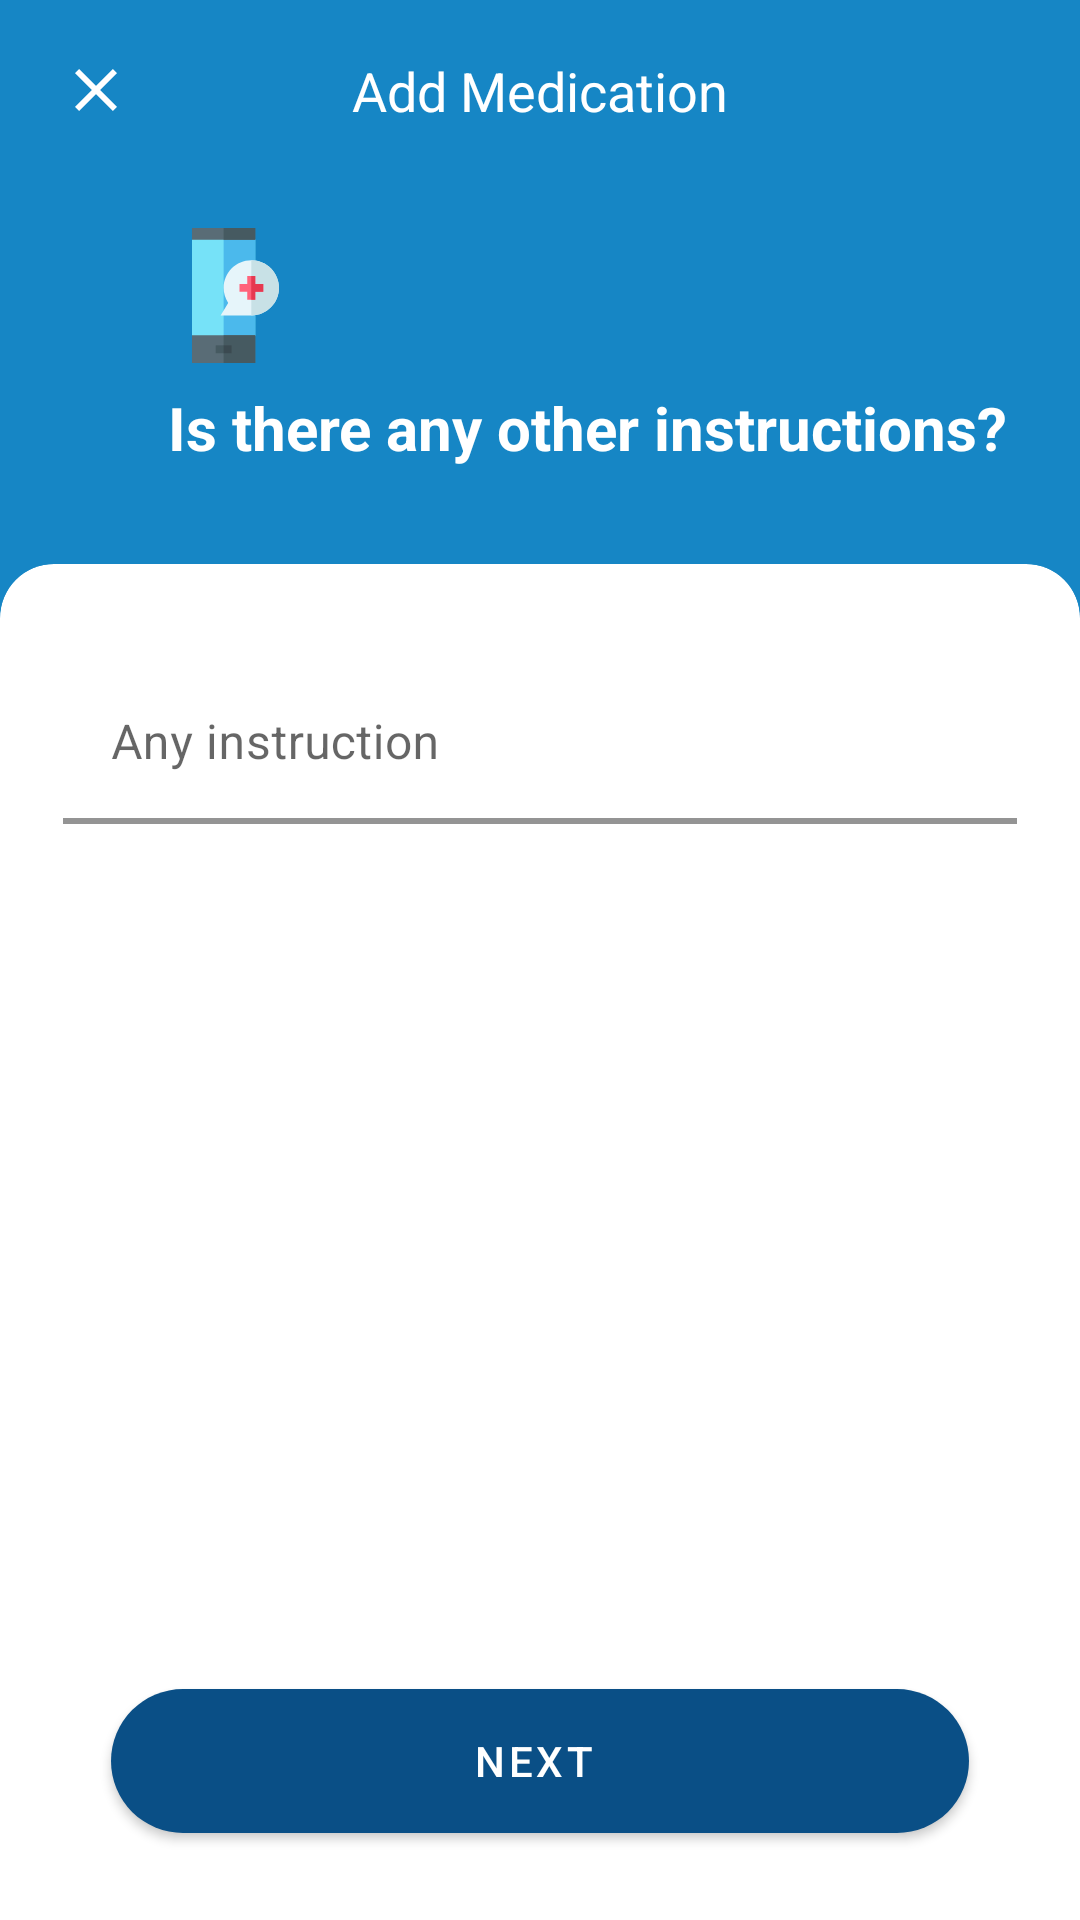

Where icons sit on this 1080px×1920px app screen, as rect(x1, y1, x2, y2):
Close: rect(75, 69, 117, 111)
